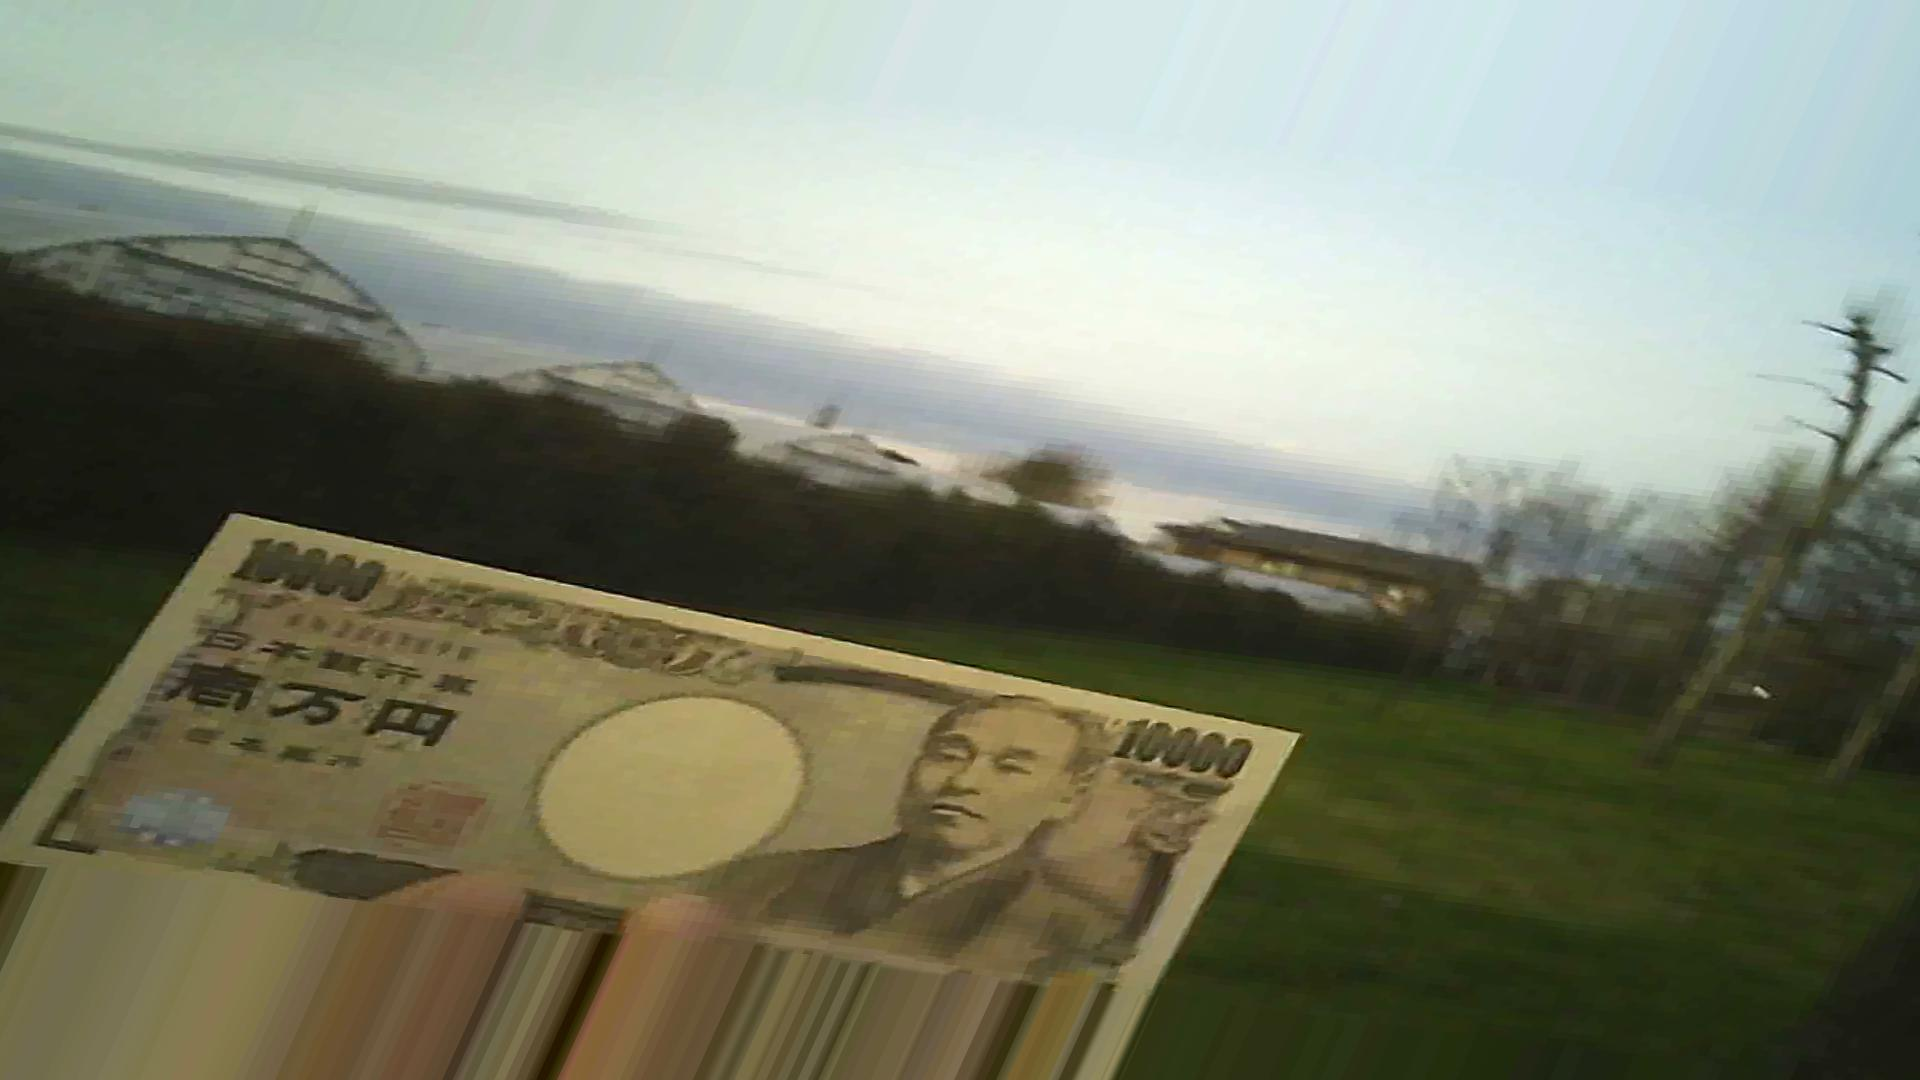10,000 Yen: (11, 464, 1331, 1006)
